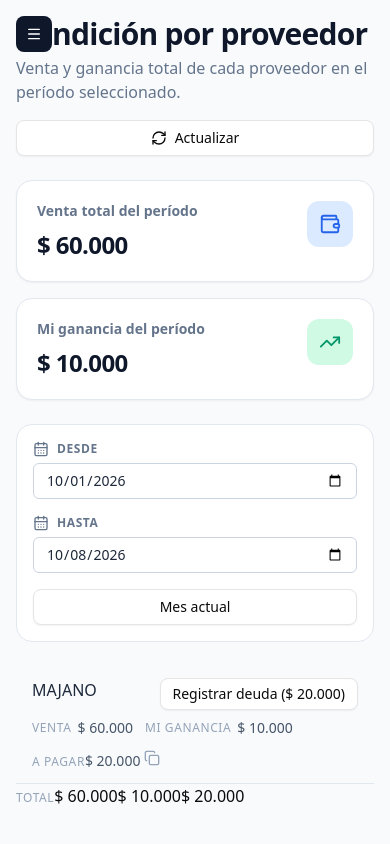
Scenario: SupplierProfitPage - vista de cards (mobile) › el botón de la card copia el incremental pendiente
Click the button named "Copiar monto a pagar a MAJANO" at point(152, 758), box [140,746,164,770]
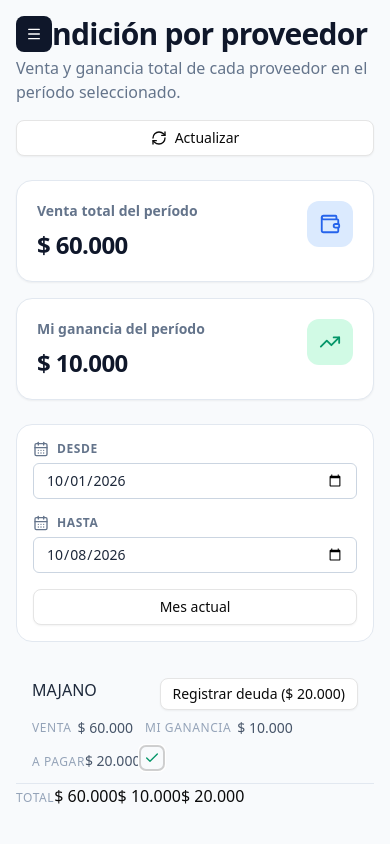
Expected: the button titled "¡Copiado!" is shown, [140,746,164,770]
